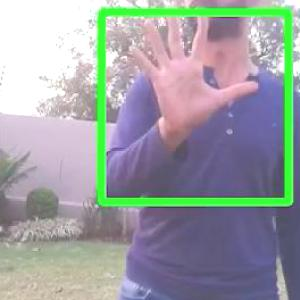follow_hand: (125, 0, 261, 131)
